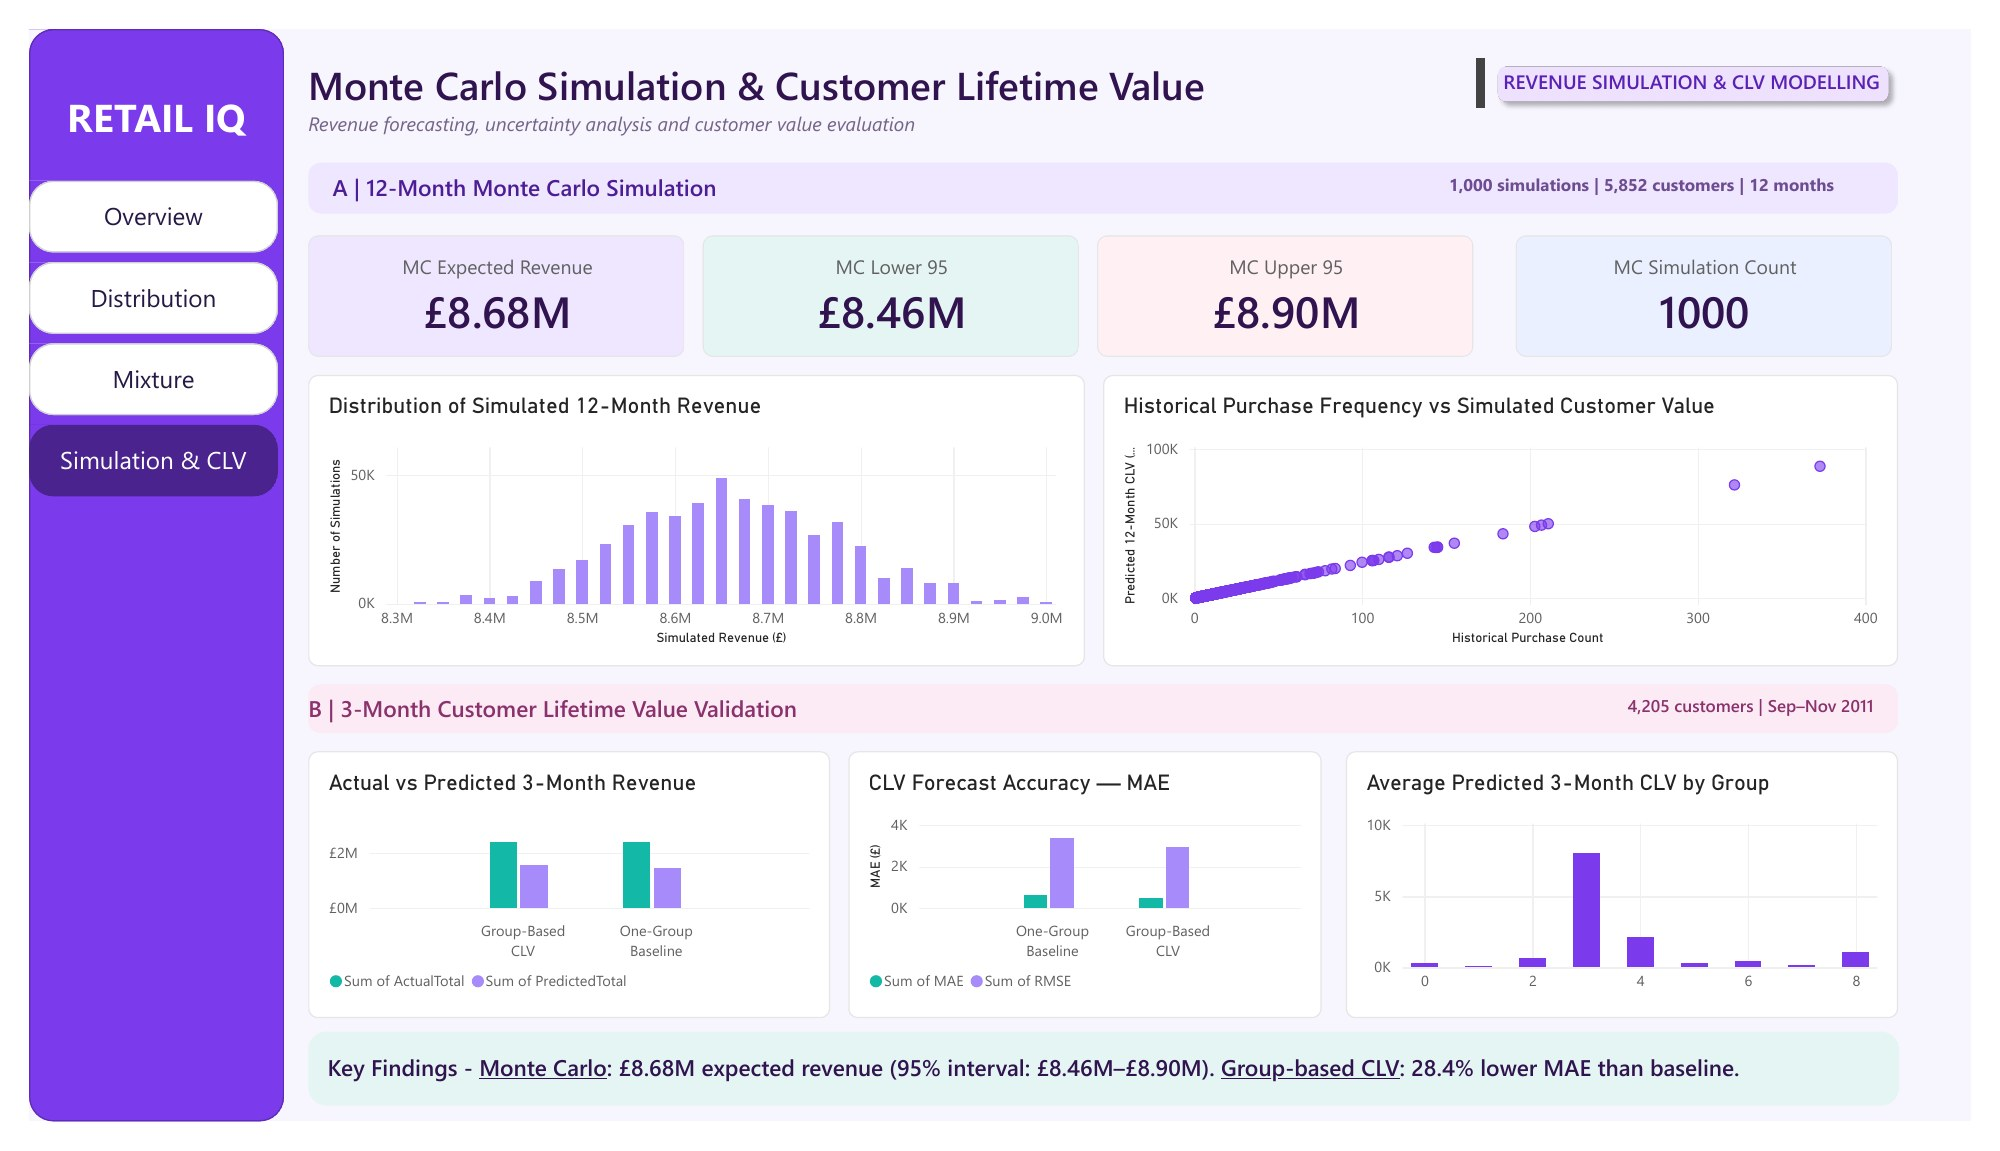

This screenshot's page, from the dashboard's own definition file:
{"tool":"powerbi","page":{"name":"Simulation & CLV","canvas":[1600,900],"ordinal":3},"visuals":[{"type":"shape","box":[229.7,825.6,1311.1,61],"z":0},{"type":"shape","box":[230,540,1310,40],"z":1000},{"type":"shape","box":[230,110,1310,42],"z":2000},{"type":"shape","box":[1200.6,22,340.1,46],"z":3000},{"type":"shape","box":[0,0,210,900],"z":4000},{"type":"textbox","box":[0,50,210.8,71.2],"z":5000},{"type":"pageNavigator","box":[0,125,205,263.1],"z":6000},{"type":"textbox","box":[230,24,970,42],"z":7000},{"type":"textbox","box":[230,67,900,25],"z":8000},{"type":"textbox","box":[1205,33,330,26],"z":9000},{"type":"textbox","box":[250,118,650,26],"z":10000},{"type":"textbox","box":[1170,119,335,25],"z":11000},{"type":"cardVisual","fields":{"Data":["MonteCarlo_Portfolio.MC Expected Revenue"]},"box":[230,170,310,100],"z":12000},{"type":"cardVisual","fields":{"Data":["MonteCarlo_Portfolio.MC Lower 95"]},"box":[555,170,310,100],"z":13000},{"type":"cardVisual","fields":{"Data":["MonteCarlo_Portfolio.MC Upper 95"]},"box":[880,170,310,100],"z":14000},{"type":"cardVisual","fields":{"Data":["MonteCarlo_Portfolio.MC Simulation Count"]},"box":[1225,170,310,100],"z":15000},{"type":"clusteredColumnChart","title":"Distribution of Simulated 12-Month Revenue","fields":{"Category":["MonteCarlo_Portfolio.Revenue (bins)"],"Y":["Sum(MonteCarlo_Portfolio.Simulation)"]},"box":[230,285,640,240],"z":16000},{"type":"scatterChart","title":"Historical Purchase Frequency vs Simulated Customer Value","fields":{"Category":["MonteCarlo_Customer_CLV.CustomerID"],"X":["MonteCarlo_Customer_CLV.purchase_count"],"Y":["MonteCarlo_Customer_CLV.predicted_clv"]},"box":[885,285,655,240],"z":17000},{"type":"textbox","box":[230,547,770,26],"z":18000},{"type":"textbox","box":[1200,548,320,25],"z":19000},{"type":"clusteredColumnChart","title":"Actual vs Predicted 3-Month Revenue","fields":{"Category":["CLV_Model_Evaluation.Model"],"Y":["Sum(CLV_Model_Evaluation.ActualTotal)","Sum(CLV_Model_Evaluation.PredictedTotal)"]},"box":[230,595,430,220],"z":20000},{"type":"clusteredColumnChart","title":"CLV Forecast Accuracy — MAE","fields":{"Category":["CLV_Model_Evaluation.Model"],"Y":["Sum(CLV_Model_Evaluation.MAE)","Sum(CLV_Model_Evaluation.RMSE)"]},"box":[675,595,390,220],"z":21000},{"type":"clusteredColumnChart","title":"Average Predicted 3-Month CLV by Group","fields":{"Category":["CLV_Groups.Segment"],"Y":["Sum(CLV_Groups.MeanPredicted)"]},"box":[1085,595,455,220],"z":22000},{"type":"textbox","box":[245.6,843,1279.1,33.4],"z":22001}]}

Visuals, with their boxes in screenshot pixels (x1, y1, x2, y2), scaled from the page's 1600x900 canvas onto the 2000x1151 screenshot:
shape: bbox=[287, 1056, 1926, 1134]
shape: bbox=[288, 691, 1925, 742]
shape: bbox=[288, 141, 1925, 194]
shape: bbox=[1501, 28, 1926, 87]
shape: bbox=[0, 0, 262, 1150]
textbox: bbox=[0, 64, 264, 155]
pageNavigator: bbox=[0, 160, 256, 496]
textbox: bbox=[288, 31, 1500, 84]
textbox: bbox=[288, 86, 1412, 118]
textbox: bbox=[1506, 42, 1919, 75]
textbox: bbox=[312, 151, 1125, 184]
textbox: bbox=[1462, 152, 1881, 184]
cardVisual - MonteCarlo_Portfolio.MC Expected Revenue: bbox=[288, 217, 675, 345]
cardVisual - MonteCarlo_Portfolio.MC Lower 95: bbox=[694, 217, 1081, 345]
cardVisual - MonteCarlo_Portfolio.MC Upper 95: bbox=[1100, 217, 1488, 345]
cardVisual - MonteCarlo_Portfolio.MC Simulation Count: bbox=[1531, 217, 1919, 345]
"Distribution of Simulated 12-Month Revenue" clusteredColumnChart: bbox=[288, 364, 1088, 671]
"Historical Purchase Frequency vs Simulated Customer Value" scatterChart: bbox=[1106, 364, 1925, 671]
textbox: bbox=[288, 700, 1250, 733]
textbox: bbox=[1500, 701, 1900, 733]
"Actual vs Predicted 3-Month Revenue" clusteredColumnChart: bbox=[288, 761, 825, 1042]
"CLV Forecast Accuracy — MAE" clusteredColumnChart: bbox=[844, 761, 1331, 1042]
"Average Predicted 3-Month CLV by Group" clusteredColumnChart: bbox=[1356, 761, 1925, 1042]
textbox: bbox=[307, 1078, 1906, 1121]
